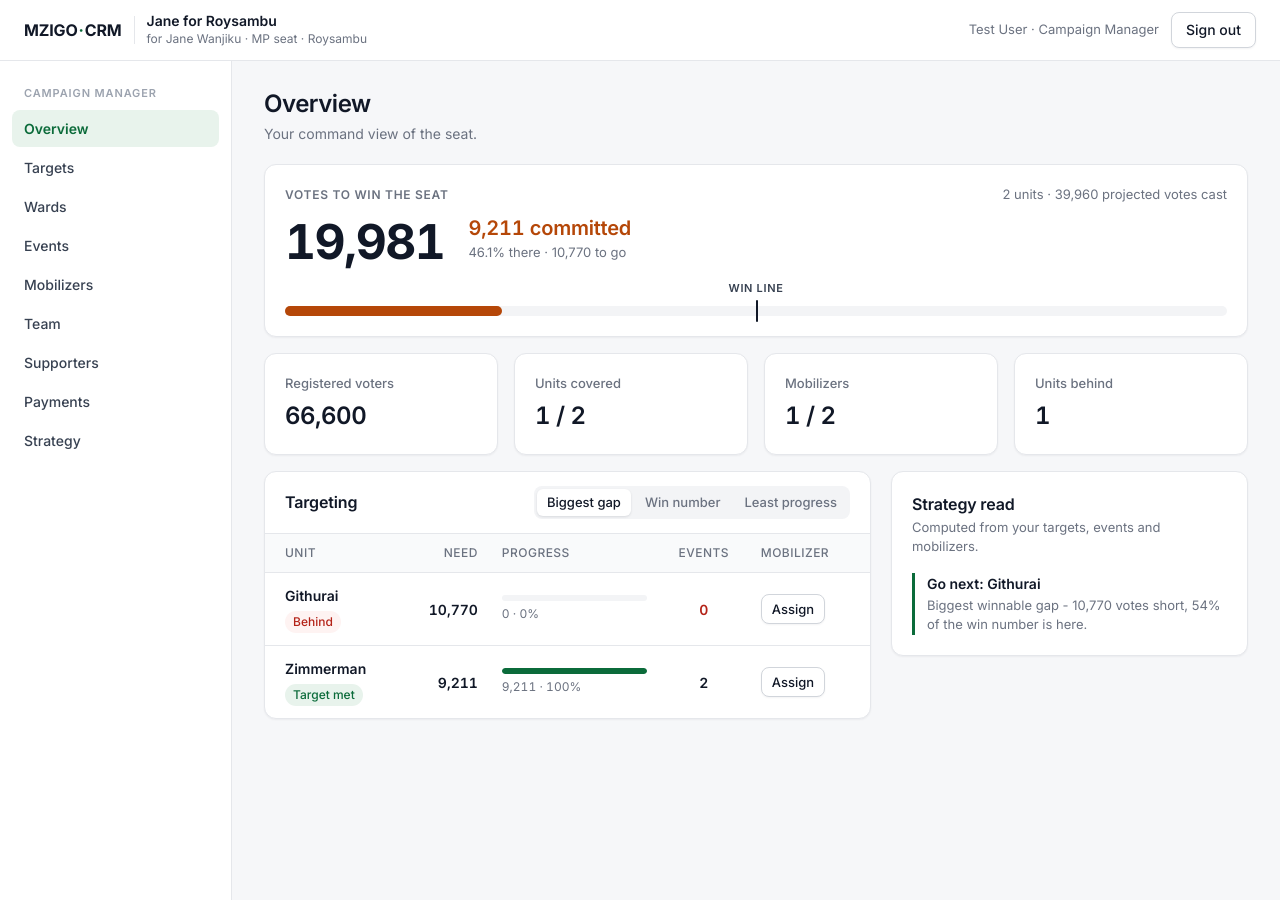
Scenario: the team page › lets the manager reset only the mobilizers' passwords, and set no manager
Click the button "Team" at (116, 323), box [12,305,219,342]
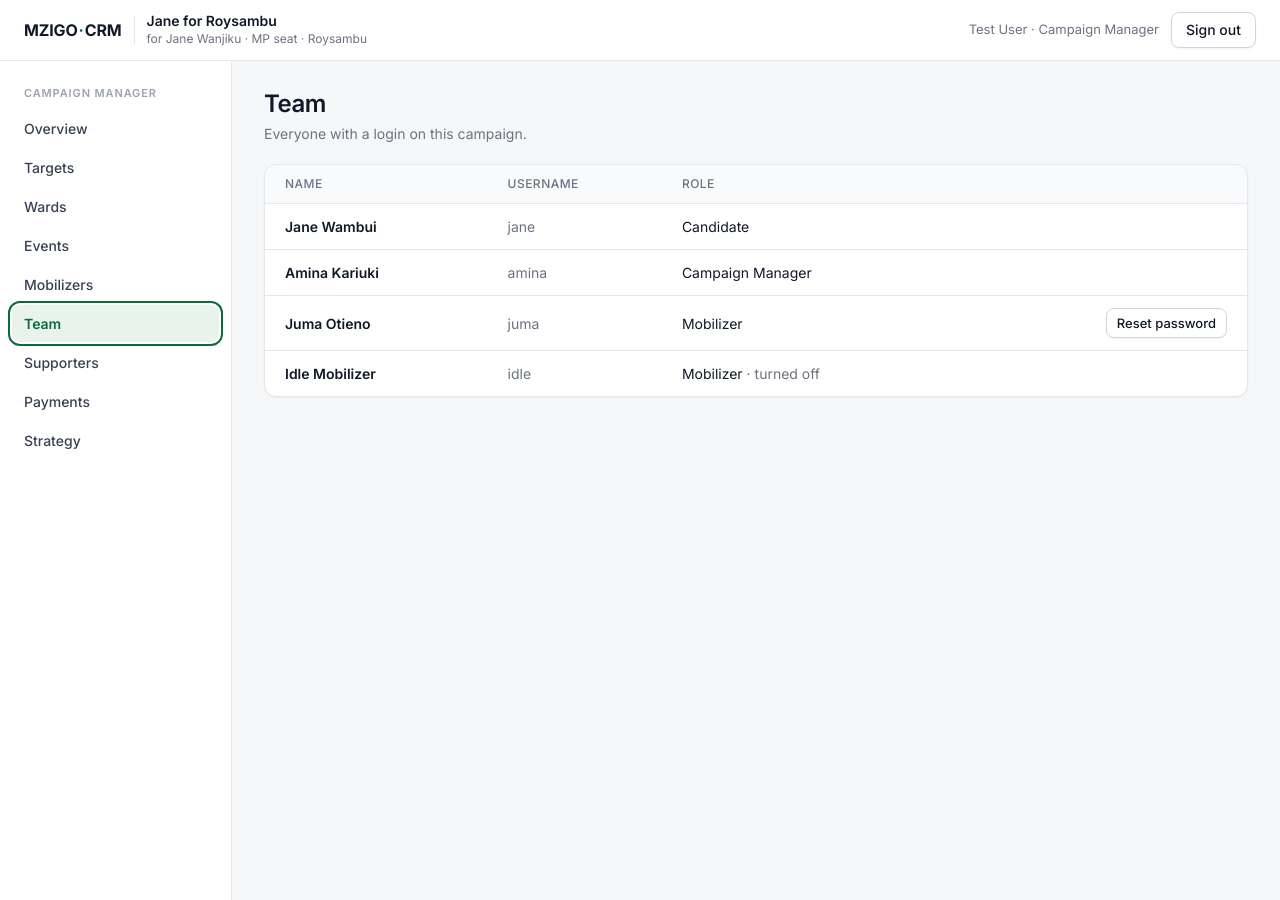
Result: the text "Amina Kariuki" is shown at [265,250,496,296]
